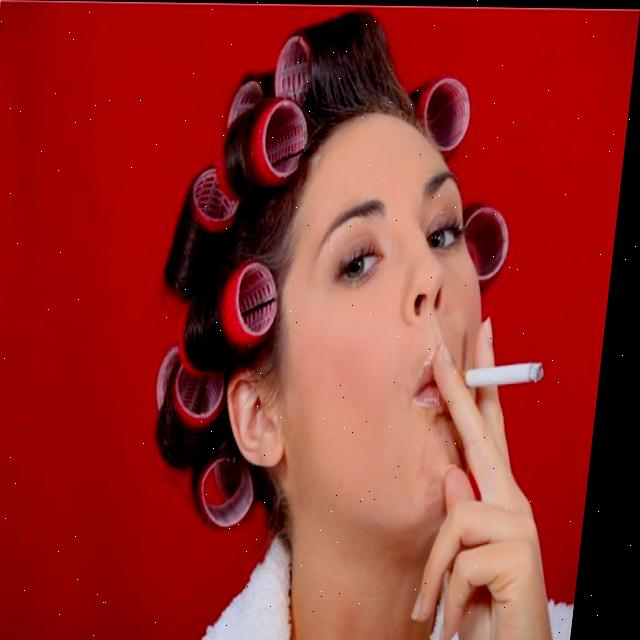cigarette: (468, 359, 554, 384)
